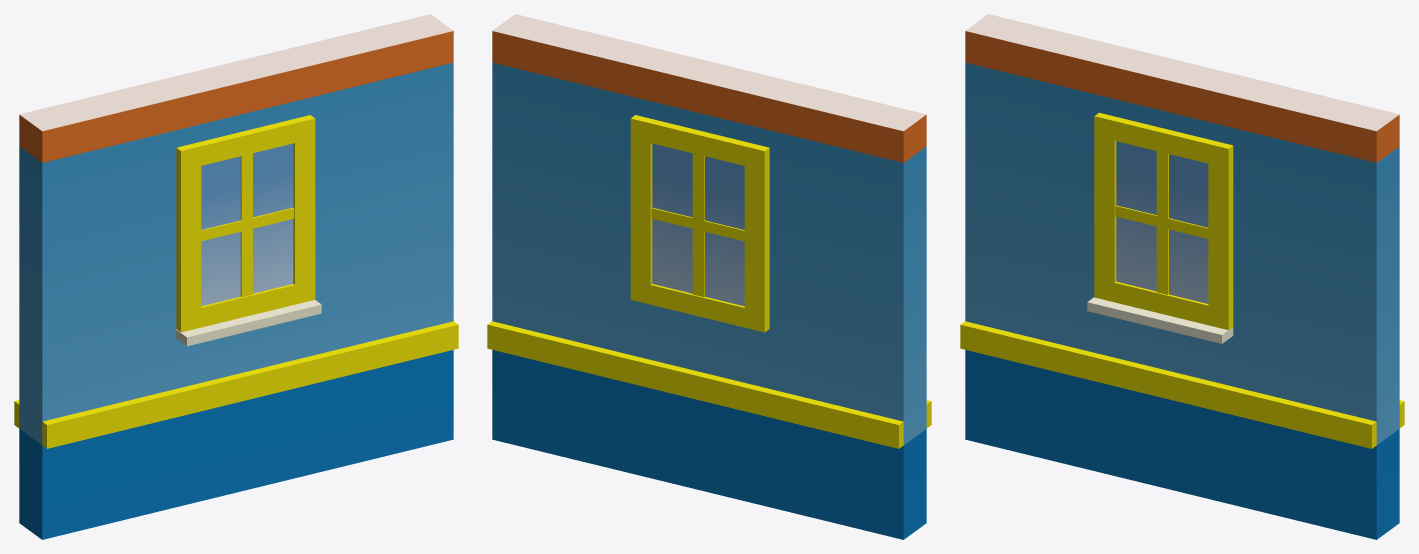
File: M1_Wall_06_3.fbx
3 renders of one model, left to right at view 1: azimuth 30°, elevation 25°; view 2: azimuth 150°, elevation 25°; view 3: azimuth 330°, elevation 25°, orthographic.
Visible parts, largest first — view 1: M1_Wall_06_3; view 2: M1_Wall_06_3; view 3: M1_Wall_06_3.
Part boxes in pixels (box(x1,y1,x2,y2)): M1_Wall_06_3: box(14, 14, 458, 539); M1_Wall_06_3: box(487, 14, 931, 539); M1_Wall_06_3: box(960, 14, 1404, 539).
Size of the model in its own units: 400 by 380 by 66.08.
